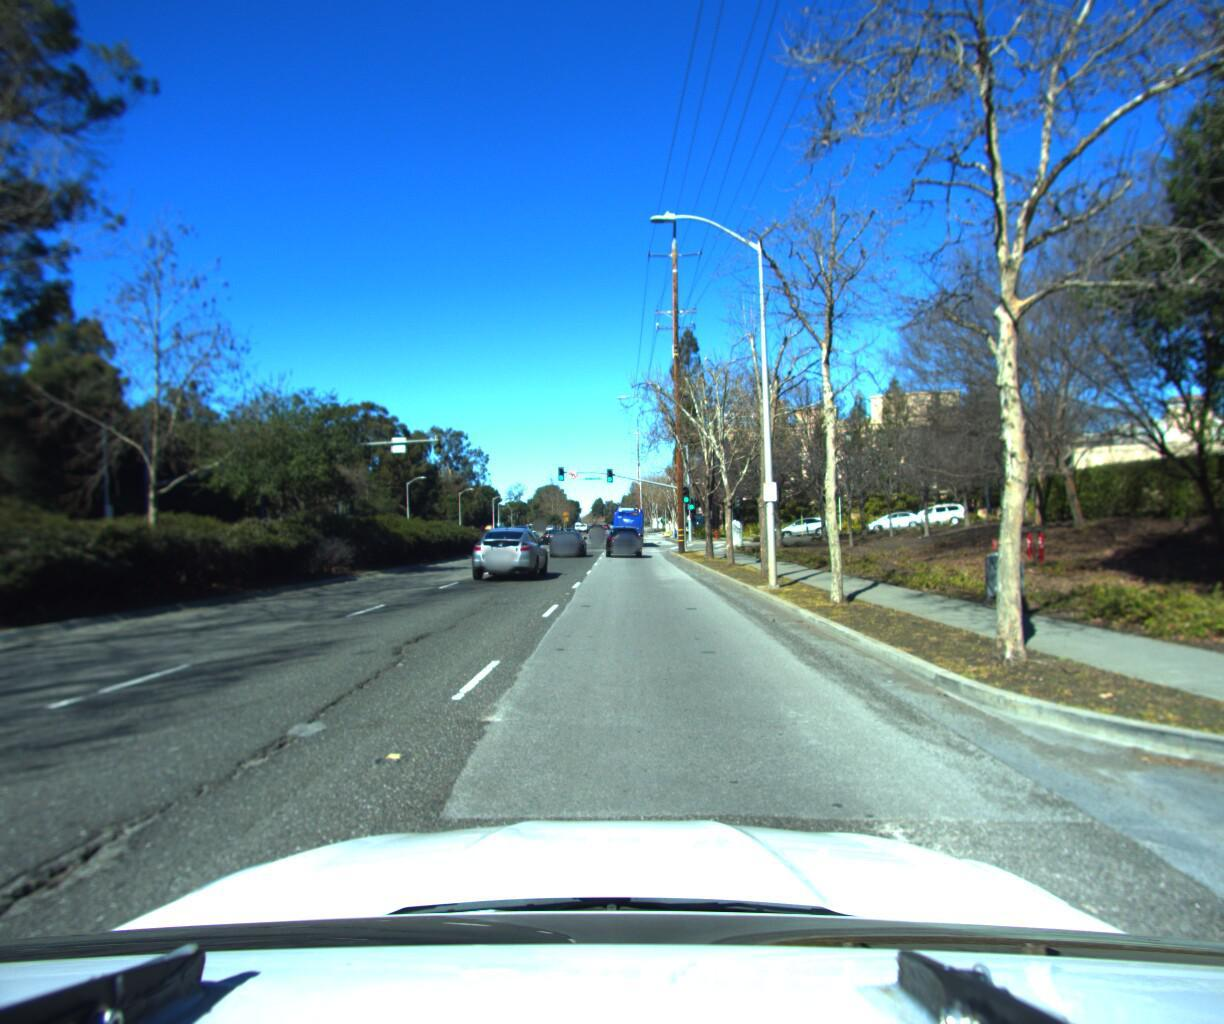bus: (609, 501, 647, 542)
car: (464, 524, 550, 581), (903, 493, 971, 522), (773, 511, 832, 537), (605, 523, 645, 557), (862, 506, 925, 528), (548, 527, 587, 555)
